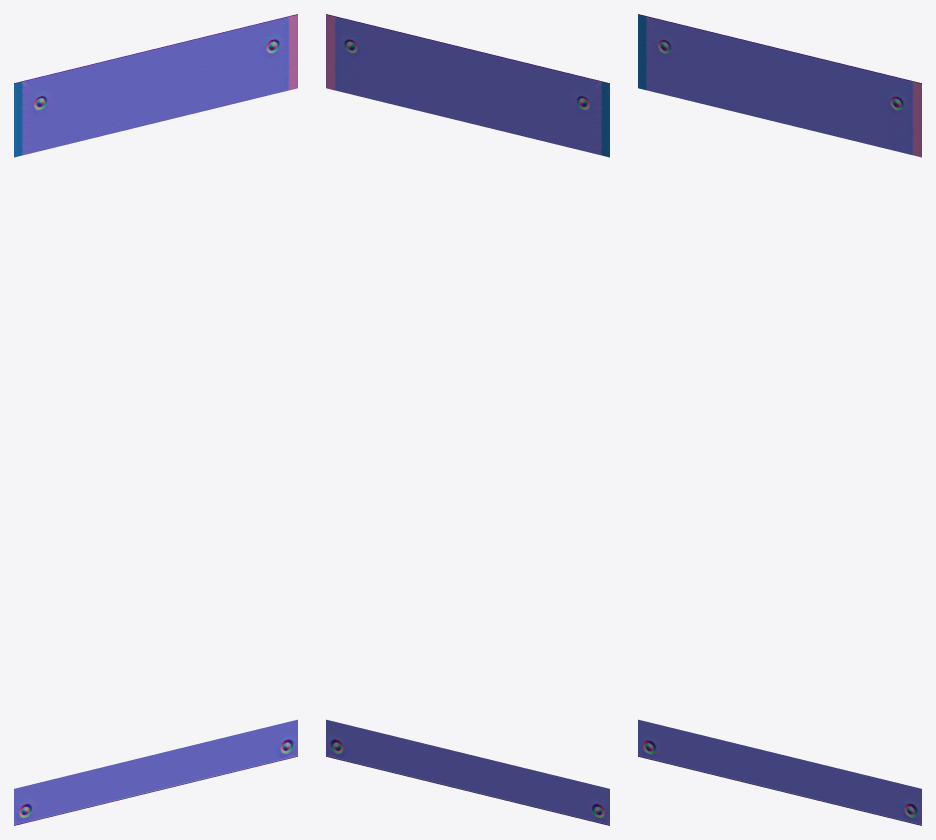
Rendered from Wall_01_Window_Art.fbx.
3 renders of one model, left to right at view 1: azimuth 30°, elevation 25°; view 2: azimuth 150°, elevation 25°; view 3: azimuth 330°, elevation 25°, orthographic.
Visible parts, largest first — view 1: Wall_01_Window; view 2: Wall_01_Window; view 3: Wall_01_Window.
Part boxes in pixels (left/top/right/bottom): Wall_01_Window: left=14, top=14, right=297, bottom=825; Wall_01_Window: left=326, top=14, right=609, bottom=825; Wall_01_Window: left=638, top=14, right=921, bottom=825.
Bounding box in the file's own units: 200 × 500 × 8.15e-05.
